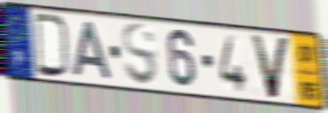4: (218, 34, 249, 95)
6: (166, 28, 198, 90)
A: (71, 19, 115, 82)
D: (33, 11, 73, 81)
S: (120, 21, 160, 89)
V: (248, 31, 294, 101)
